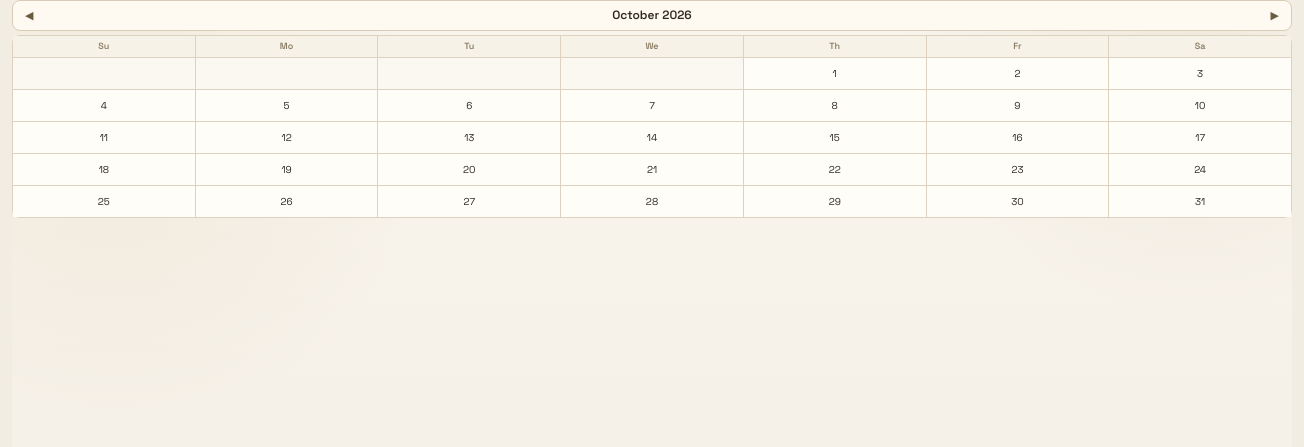
it: Calendar › sends only the status when that is all that changed, so it is not a reschedule
The image size is (1304, 447).
Click the button "15" at [835, 138], box [744,122,926,153]
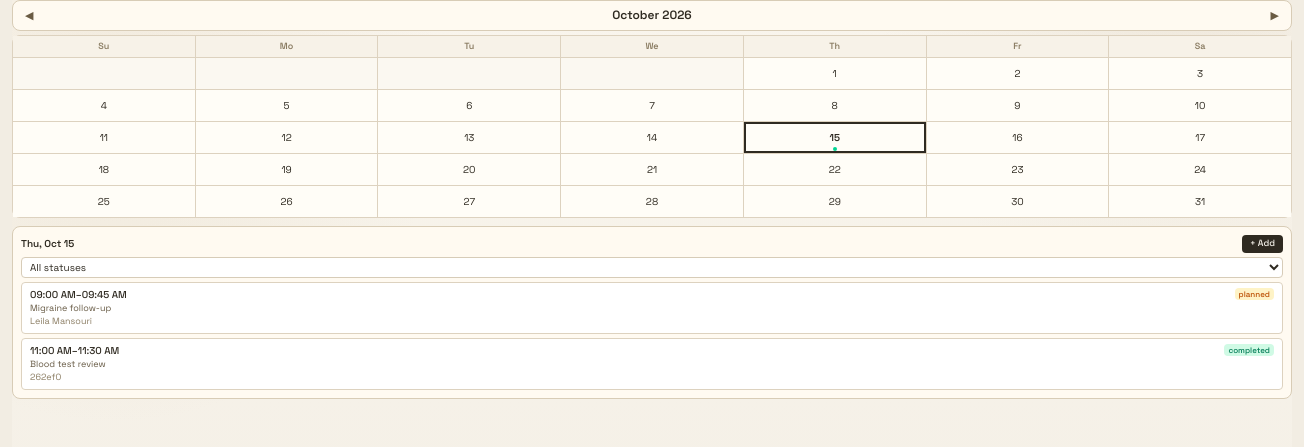
Click the text "Migraine follow-up" at [71, 308], box [30,302,111,314]
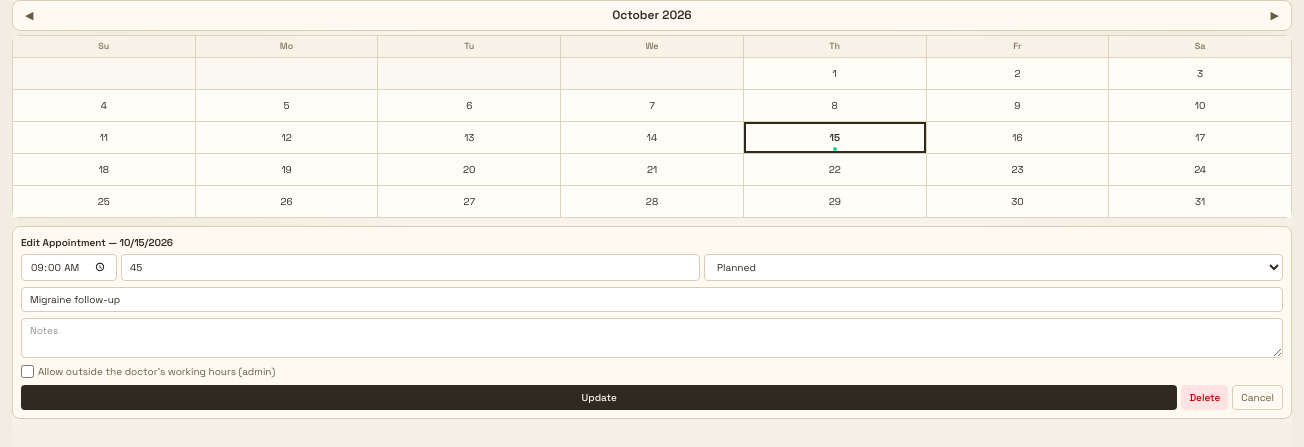
Result: the text "Allow outside the doctor's working hours (admin)" is shown at [21,364,275,378]
Select "Confirmed" in the dropdown showing "Planned" at [994, 267], box [704,254,1283,280]
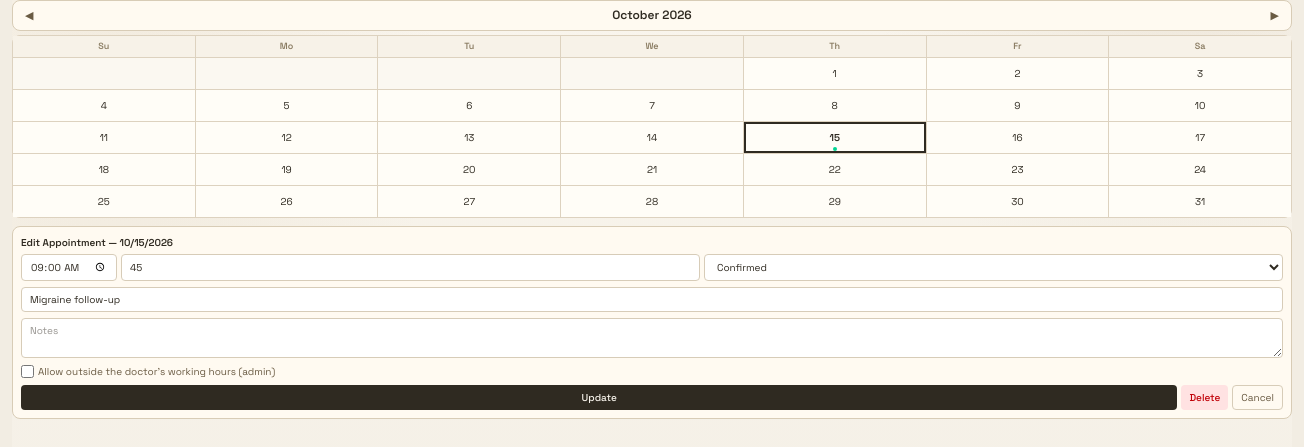
Click the button "Update" at [599, 397], box [21,384,1177,410]
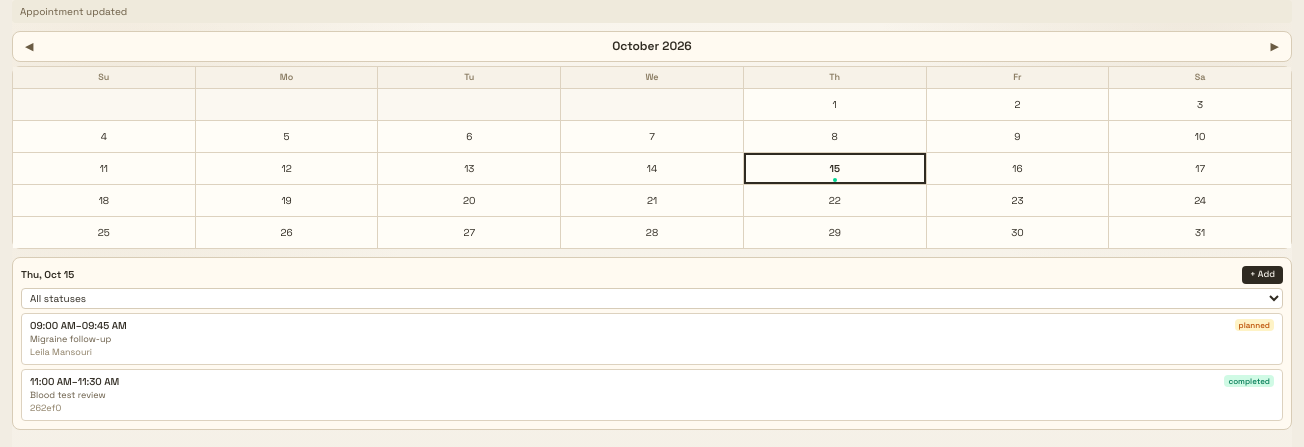
Result: the text "Appointment updated" is shown at [12,0,1292,23]
